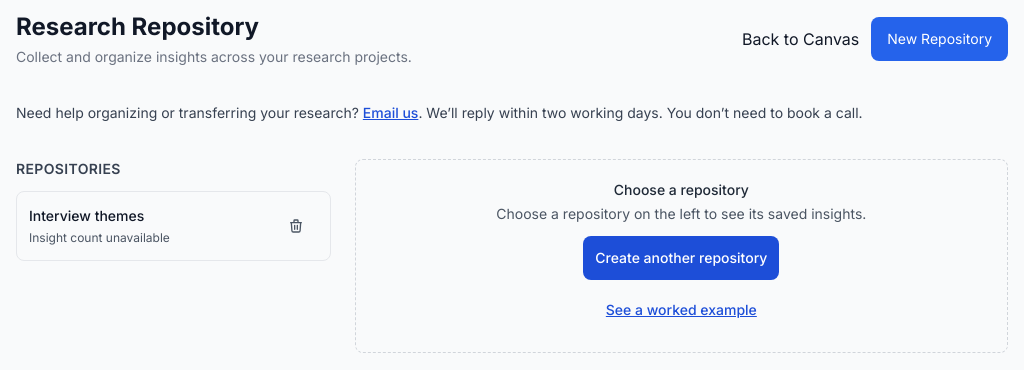
Test: RepositoryPage teaching empty states › offers recovery for malformed insights rather than crashing or showing an empty list
The width and height of the screenshot is (1024, 370).
Click the button with aria-label "Open repository Interview themes".
click(151, 226)  # box [29,204,274,248]
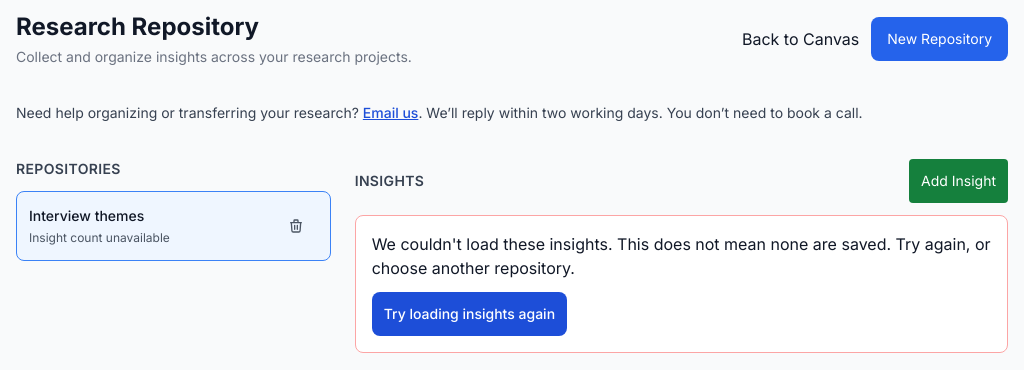
Result: the button "Try loading insights again" is shown at [372,292,567,336]
